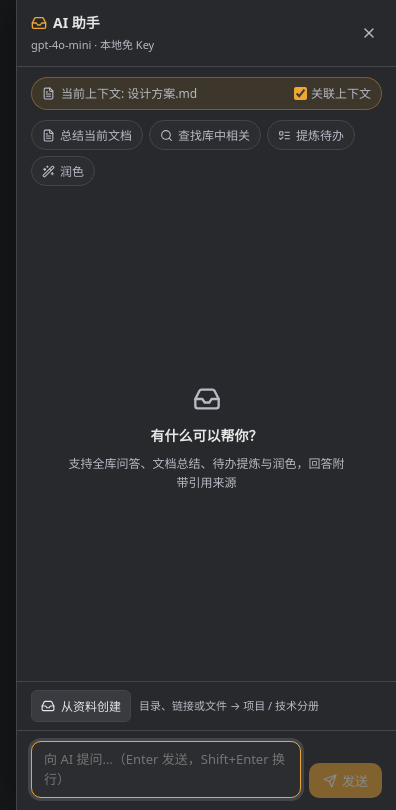
Test: AICopilotDrawer › 点击「总结当前文档」胶囊：强制注入文档内容并发起问答
What coordinates should you click on to do the following:
click the button with class "chip" showing "总结当前文档"
I would click on:
 (87, 135)
Its box is x1=31 y1=120 x2=143 y2=150.
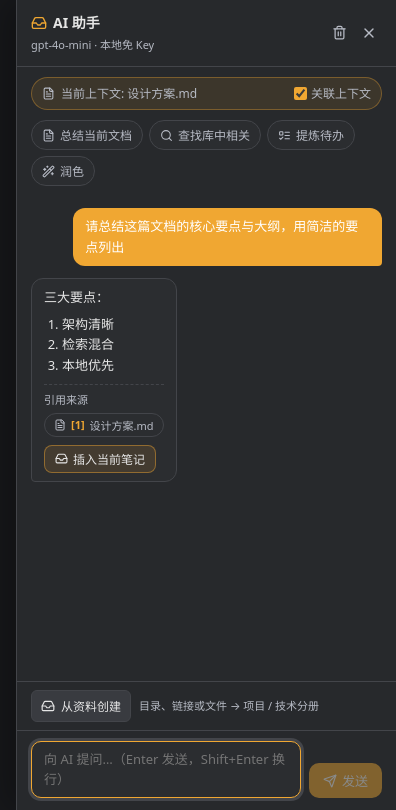
Check: the text "总结这篇文档的核心要点" is shown, box x1=85 y1=217 x2=358 y2=256
Check: the text "本地优先" is shown, box x1=62 y1=356 x2=114 y2=374
